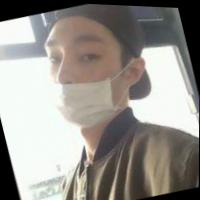WRONG: (34, 20, 144, 134)
